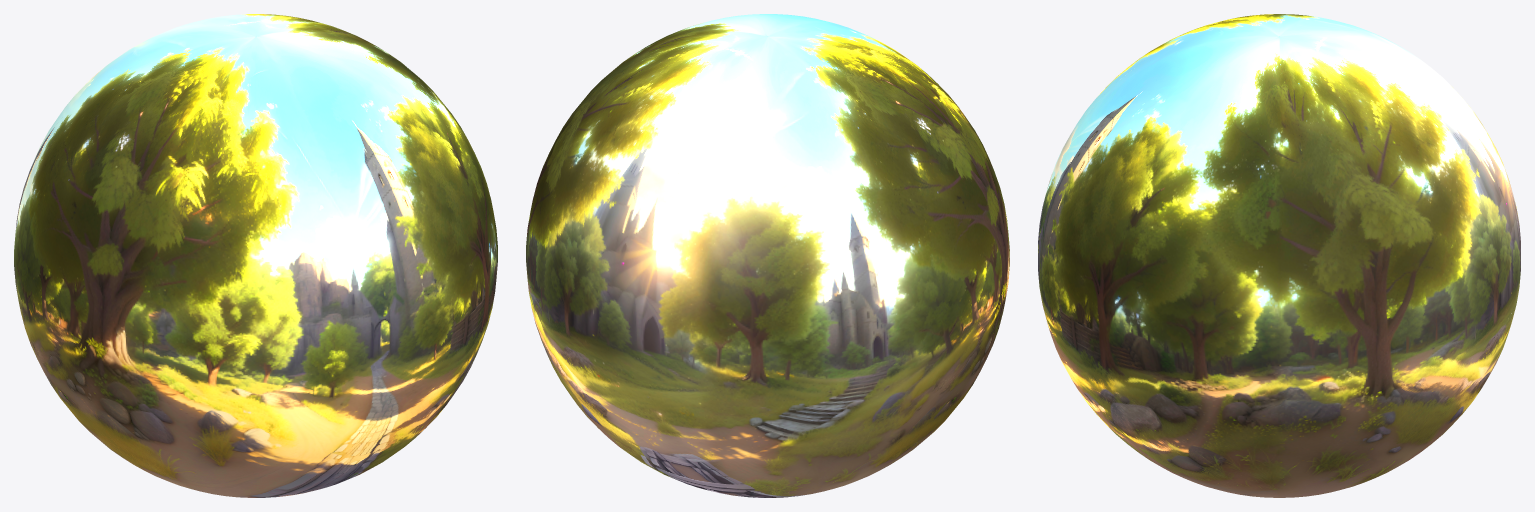
File: fantasy_landscape_2.glb
The picture shows the model from 3 angles, left to right: view 1: azimuth 30°, elevation 25°; view 2: azimuth 150°, elevation 25°; view 3: azimuth 270°, elevation 25°; orthographic projection.
Parts seen in each view (by area): view 1: Fairytale_Garden; view 2: Fairytale_Garden; view 3: Fairytale_Garden.
Part boxes in pixels (<box>): Fairytale_Garden: <box>14,14,497,497</box>; Fairytale_Garden: <box>526,14,1009,497</box>; Fairytale_Garden: <box>1038,14,1520,497</box>.
Bounding box in the file's own units: 0.2478 × 0.248 × 0.2473.
Materials: 1 (1 with a texture image).
